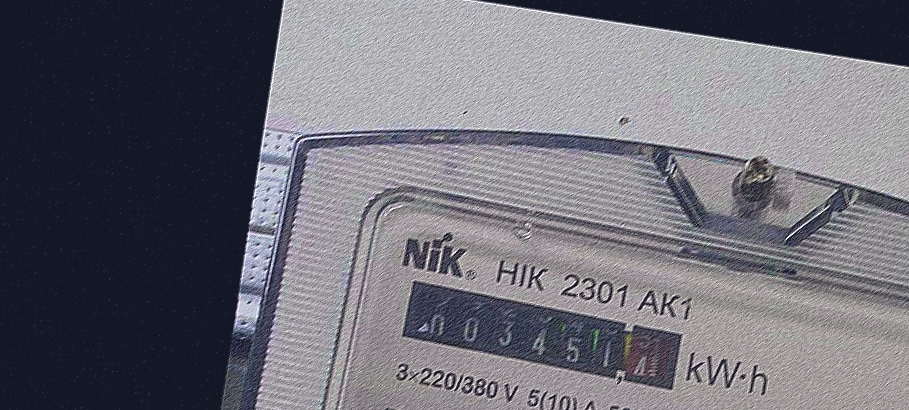0: (461, 313, 484, 344), (426, 308, 450, 337)
1: (598, 336, 619, 369)
3: (495, 315, 519, 349)
4: (528, 324, 553, 359), (629, 350, 653, 381)
5: (564, 332, 585, 365)
screen: (394, 274, 692, 399)
